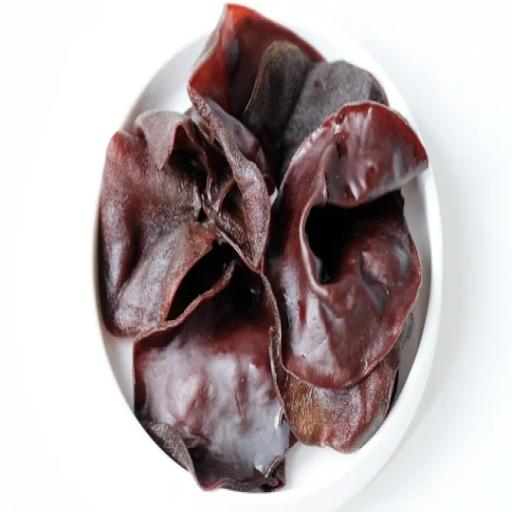Wood Ear Mushroom: (86, 0, 437, 506)
